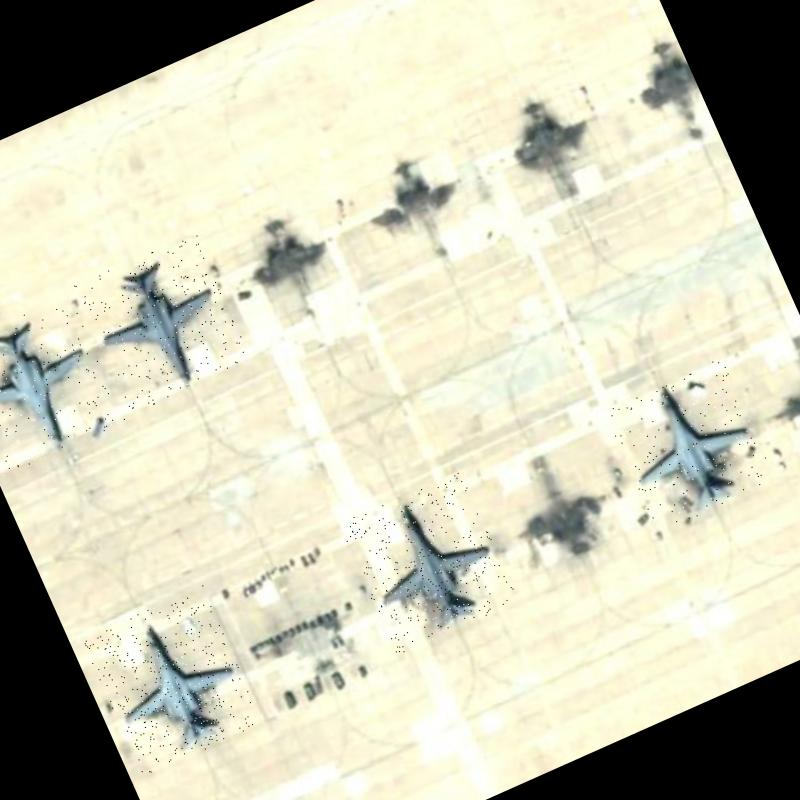A10: (82, 585, 264, 777), (338, 470, 519, 656), (73, 231, 254, 415), (602, 358, 776, 534), (0, 292, 126, 477)
